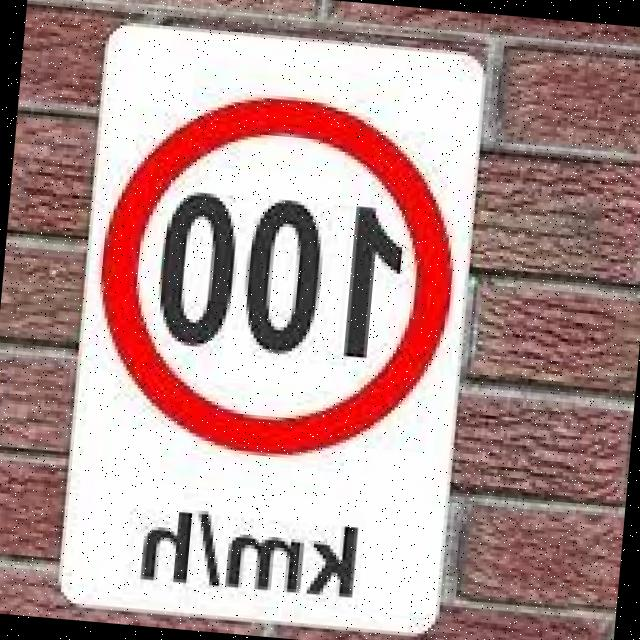speed_limit_100: (78, 74, 477, 473)
